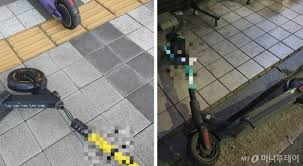fallin_kick: (164, 21, 303, 162), (3, 67, 143, 166)
guide_blocks: (6, 28, 56, 58), (83, 2, 143, 26)
kick_wheel: (55, 1, 79, 28)
